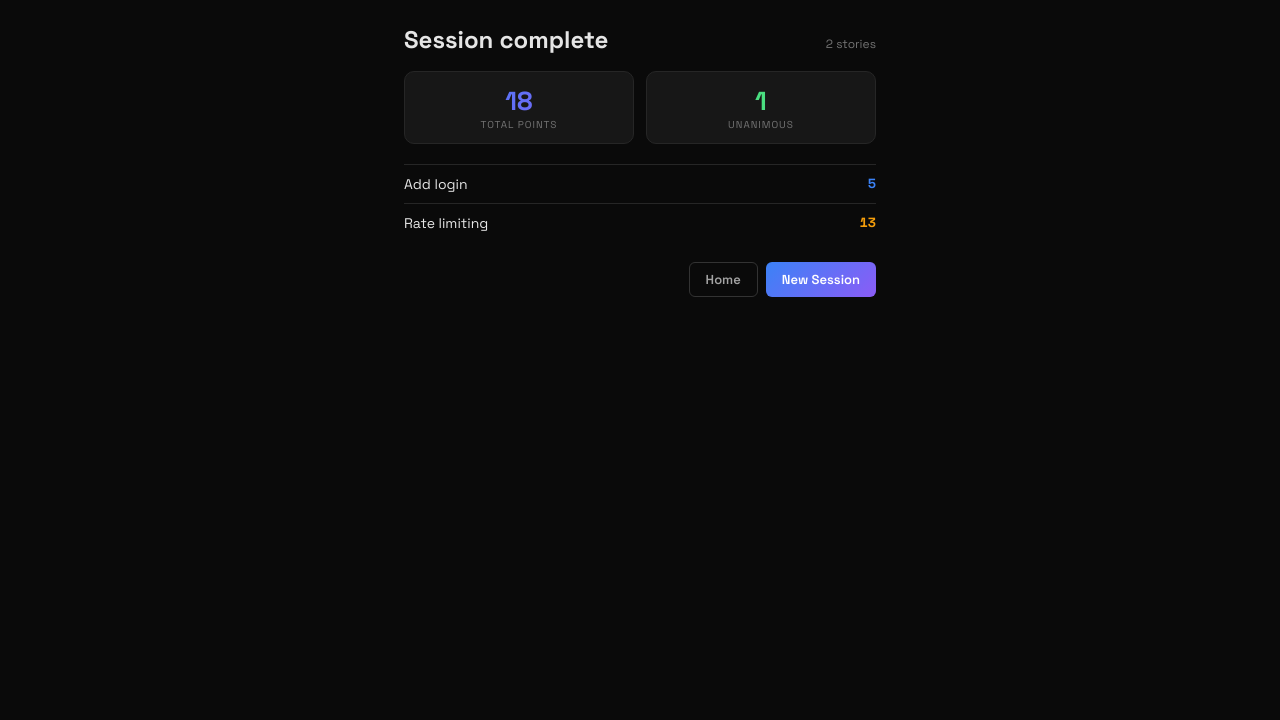
Test: SessionSummary › opens the confirmation modal when New Session is clicked
The image size is (1280, 720).
Step 1. Click the button "New Session" → (821, 280), box 766,262 -> 876,297
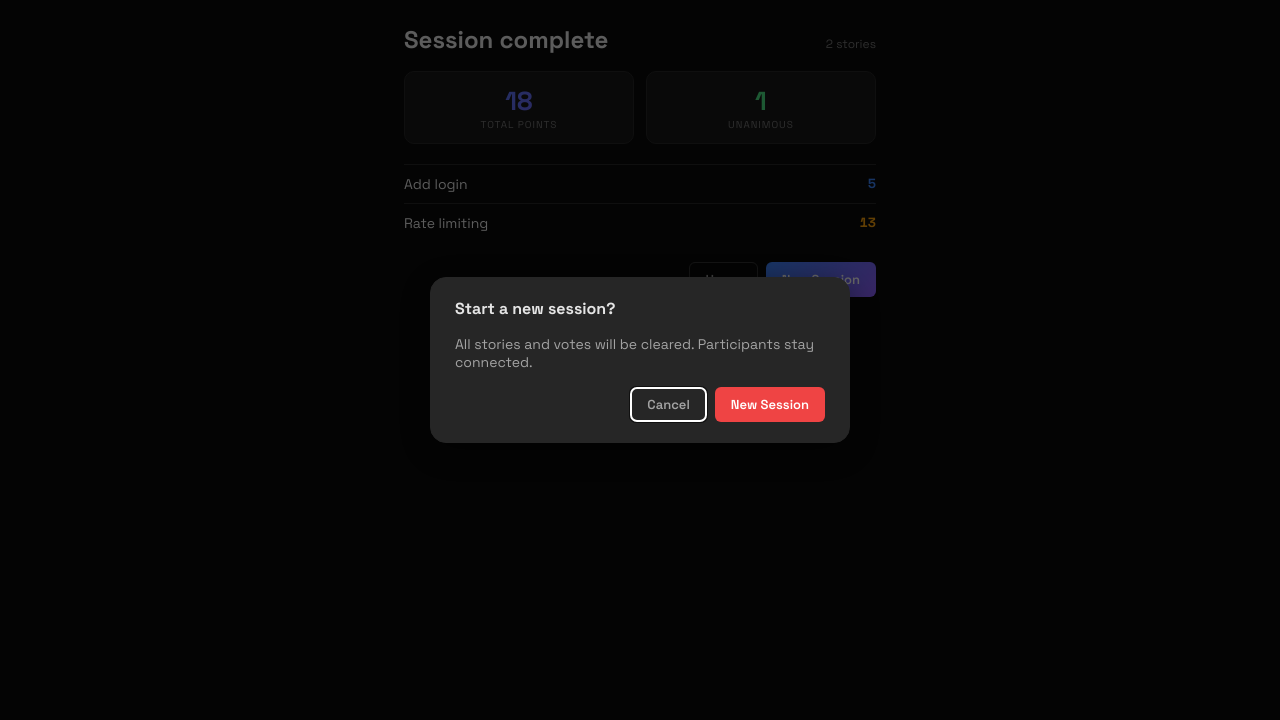
Expected: the dialog is shown
Expected: the text "All stories and votes will be cleared" is shown, 455,335 -> 814,371
